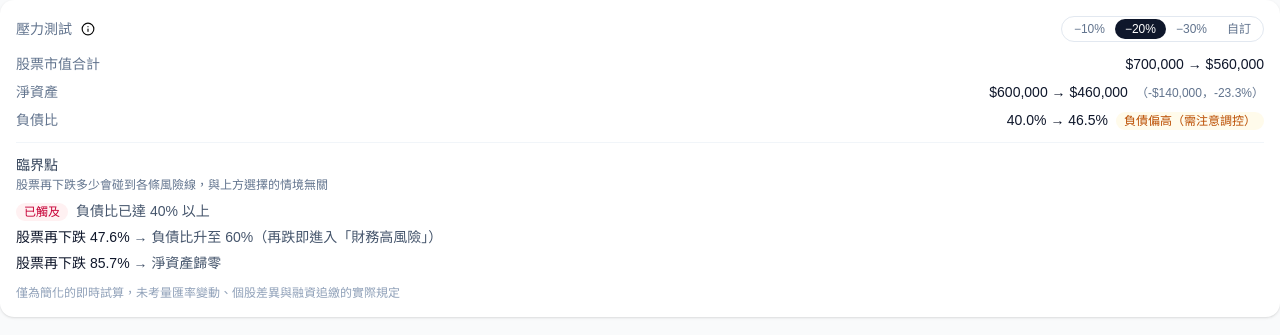
Test: StressTestCard › 切換情境後，只有被點擊的按鈕為選取狀態，數字即時更新
Click the button "−30%".
click(1192, 29)  # box [1166,19,1217,39]
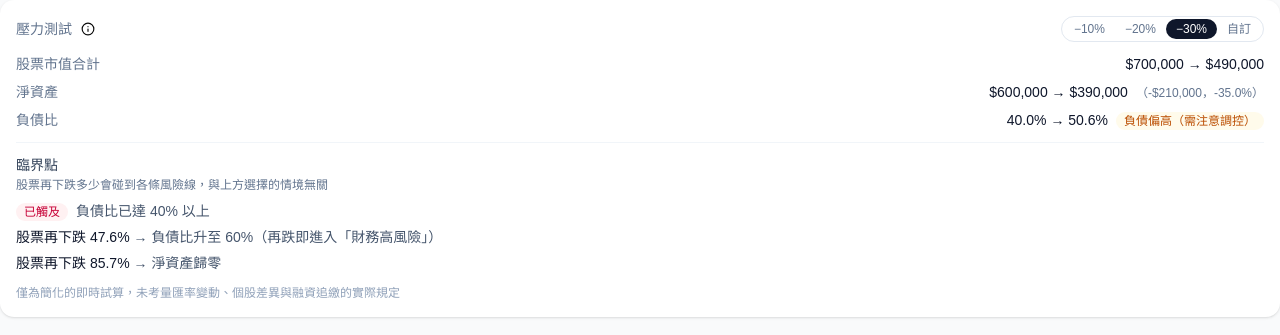
Result: the text with test id "stress-test-stock" reads "$700,000 → $490,000" at [1125,56,1264,72]
Click the button "−10%".
click(1089, 29)  # box [1064,19,1115,39]
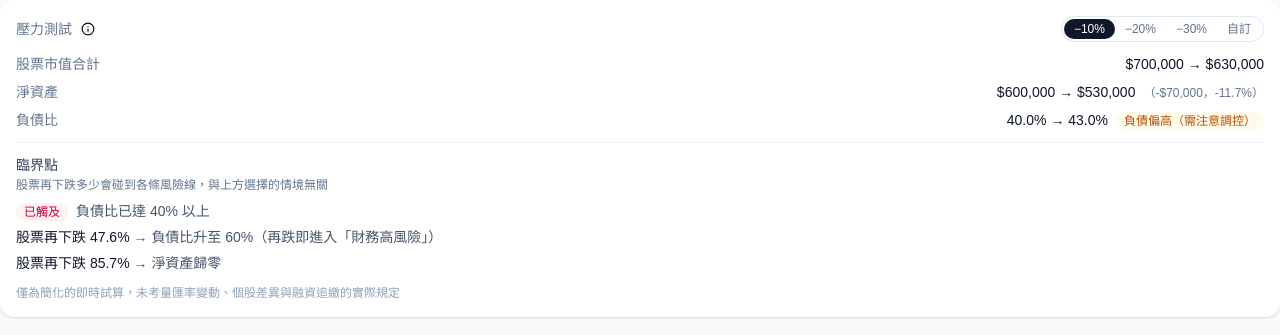
Result: the text with test id "stress-test-stock" reads "$700,000 → $630,000" at [1125,56,1264,72]
